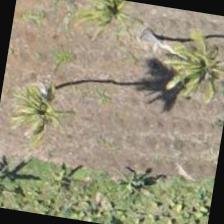Kelapa_Sawit: (0, 65, 88, 168), (144, 17, 223, 120), (51, 0, 150, 60)
